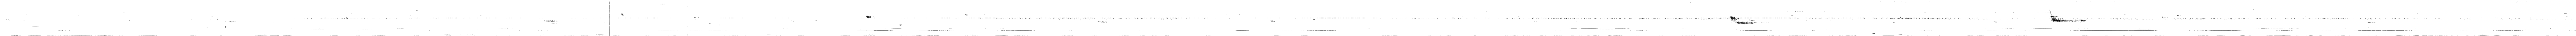meteor: (2050, 16, 2085, 21), (1735, 20, 1758, 25), (1730, 16, 1738, 21), (866, 16, 872, 18)
